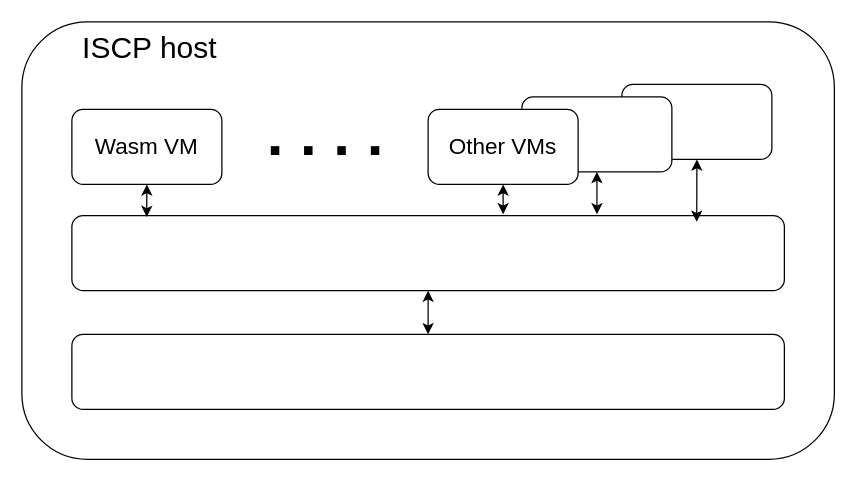
This 856x481 diagram has some shape labels left out. The shapes that lost their labels are listed below. From the top down, each one's box as (x1, y1, x2, y2) in pixels, then its label:
(71, 214, 784, 291): ISCP sandbox API
(71, 333, 784, 409): Smart contract state storage
